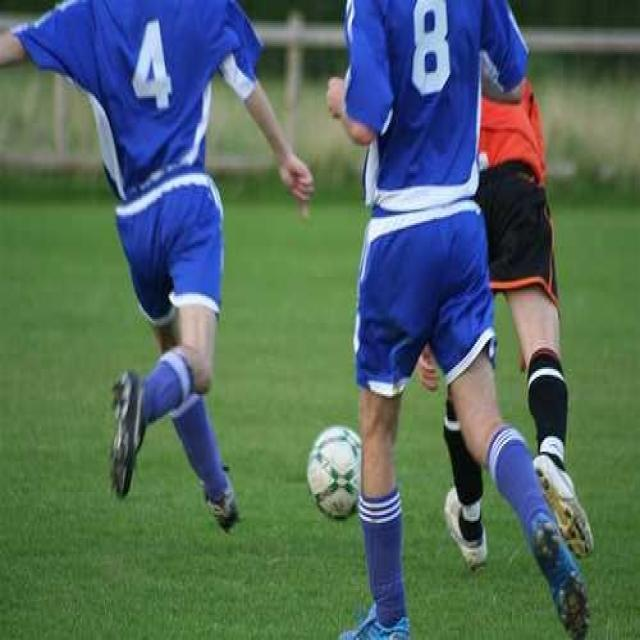ball: (306, 426, 366, 521)
